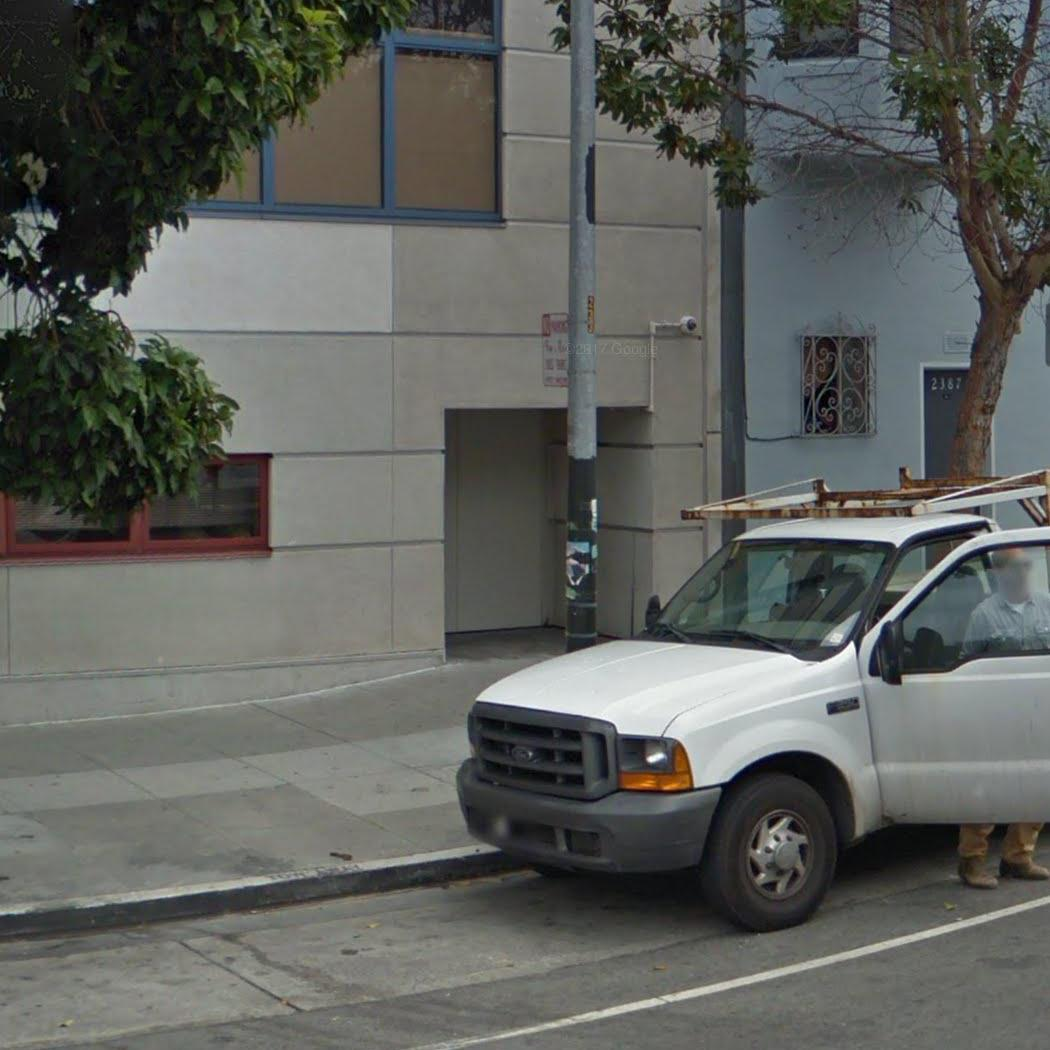No Parking: (540, 310, 572, 389)
